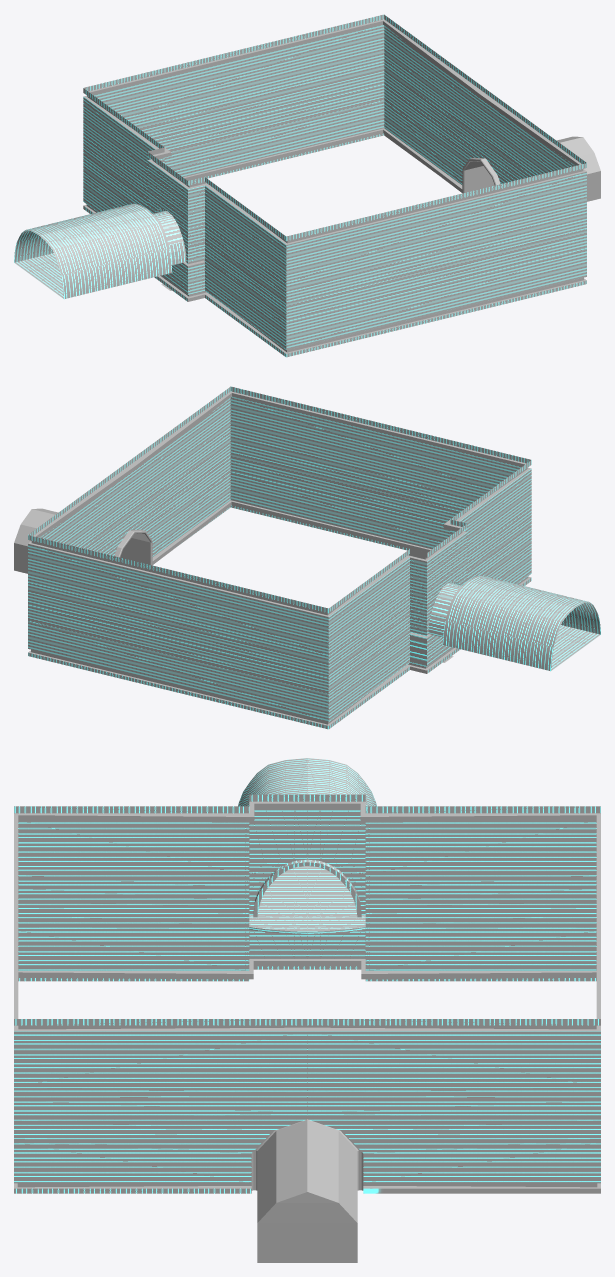
The model's file is Env_RoomWalls_Level1.fbx.
3 views of the same model, one above another, from view 1: azimuth 30°, elevation 25°; view 2: azimuth 150°, elevation 25°; view 3: azimuth 270°, elevation 25° (orthographic). The views are drawn at different scales.
Visible parts, largest first — view 1: Level1_Walls; view 2: Level1_Walls; view 3: Level1_Walls.
Part boxes in pixels (bbox=[...]): Level1_Walls: bbox=[14, 14, 600, 357]; Level1_Walls: bbox=[14, 386, 600, 729]; Level1_Walls: bbox=[14, 758, 600, 1262].
Size of the model in its own units: 14320 by 3040 by 9243.
